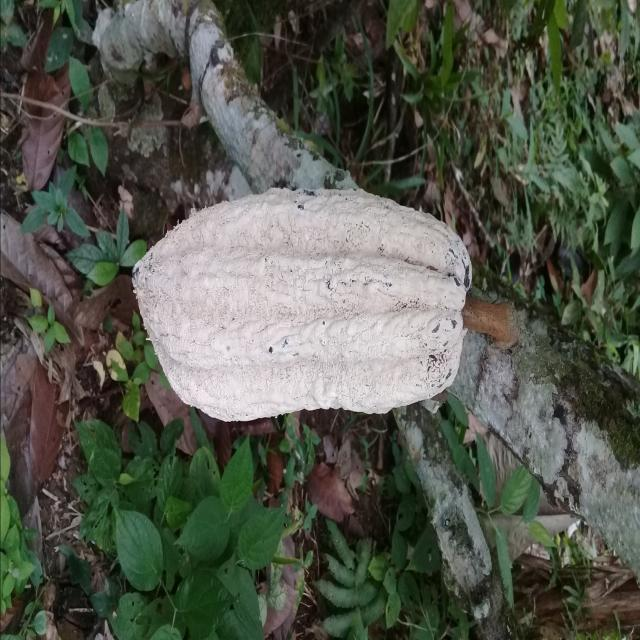Monilia: (128, 186, 478, 424)
